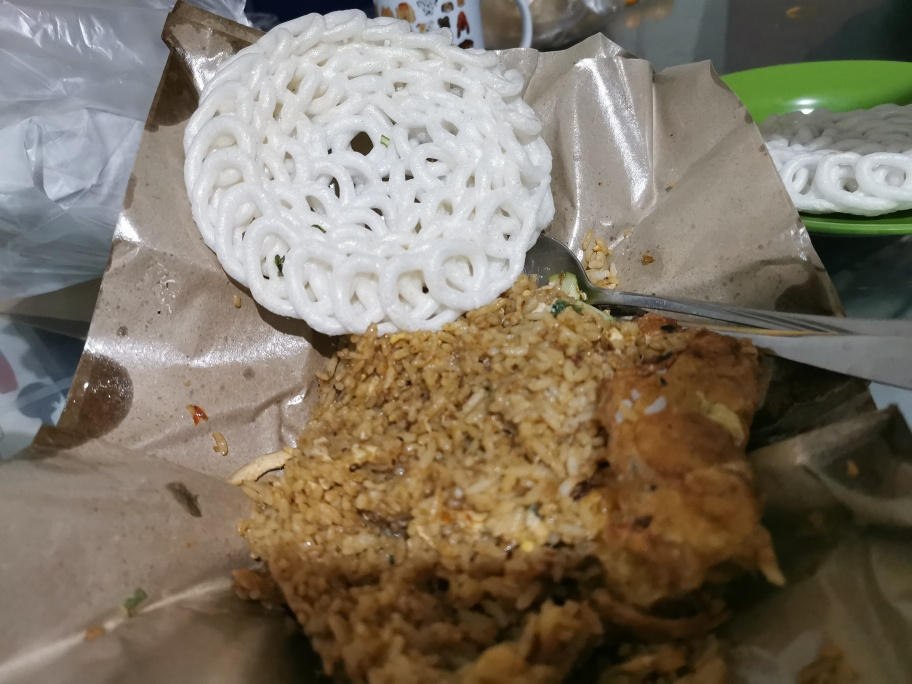kerupuk: (179, 1, 554, 338)
nasi goreng: (269, 333, 767, 684)
